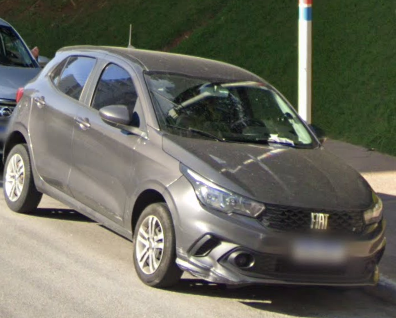car: (3, 42, 388, 299)
